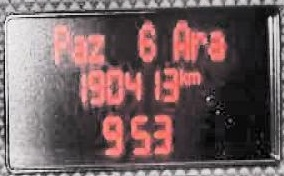0: (104, 66, 124, 105)
1: (76, 68, 87, 104), (151, 66, 160, 101)
3: (151, 113, 171, 153), (162, 65, 177, 101)
4: (123, 66, 142, 100)
5: (127, 111, 150, 155)
6: (136, 20, 155, 61)
9: (98, 111, 122, 156), (87, 68, 103, 106)
X: (171, 18, 190, 61), (51, 21, 68, 65), (206, 28, 225, 61), (68, 31, 86, 65), (87, 31, 104, 65), (190, 28, 206, 59), (187, 68, 201, 86), (177, 65, 187, 86)
